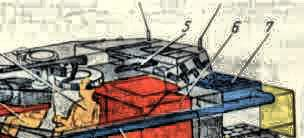tanks: (1, 39, 296, 138)
